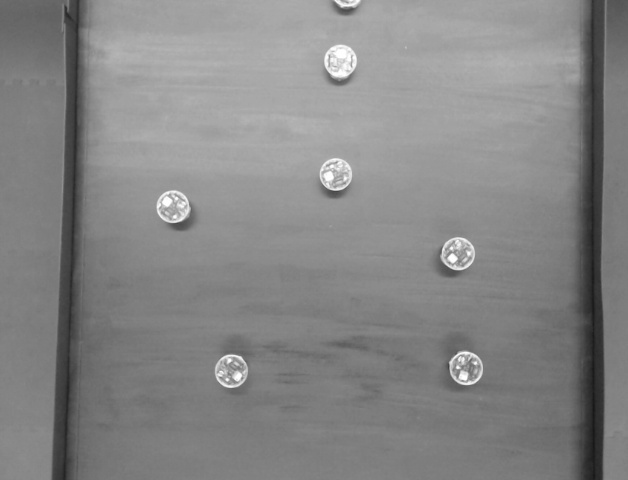epuck_2: (204, 340, 262, 398), (441, 341, 495, 394), (149, 183, 200, 238), (435, 229, 483, 280), (316, 154, 356, 201), (319, 44, 362, 86), (325, 1, 366, 14)
